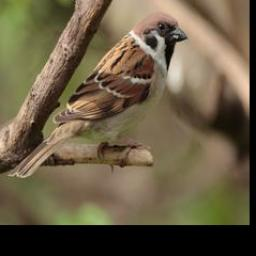Sparrow: (7, 7, 190, 182)
